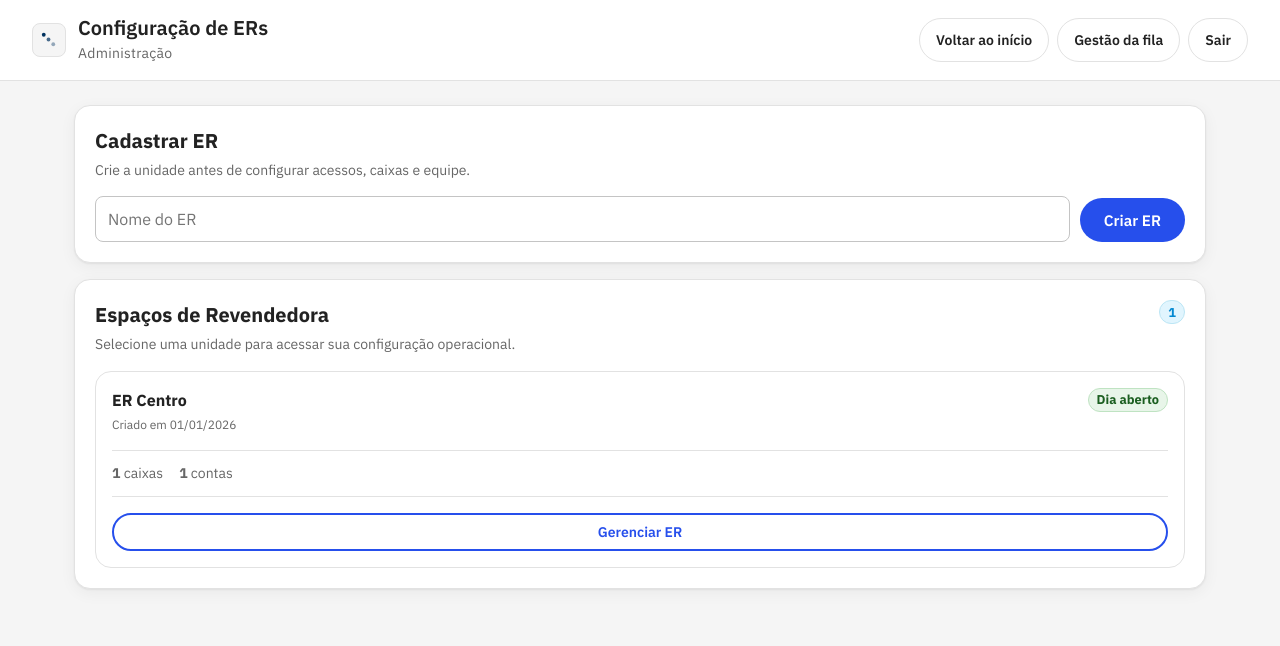
Test: AdminPage — ER management › hides the panel token URL after the ER detail reloads, never reshowing the secret
Click the button "Gerenciar ER" at coordinates (640, 532), box [112, 513, 1168, 551]
(page scrolled)
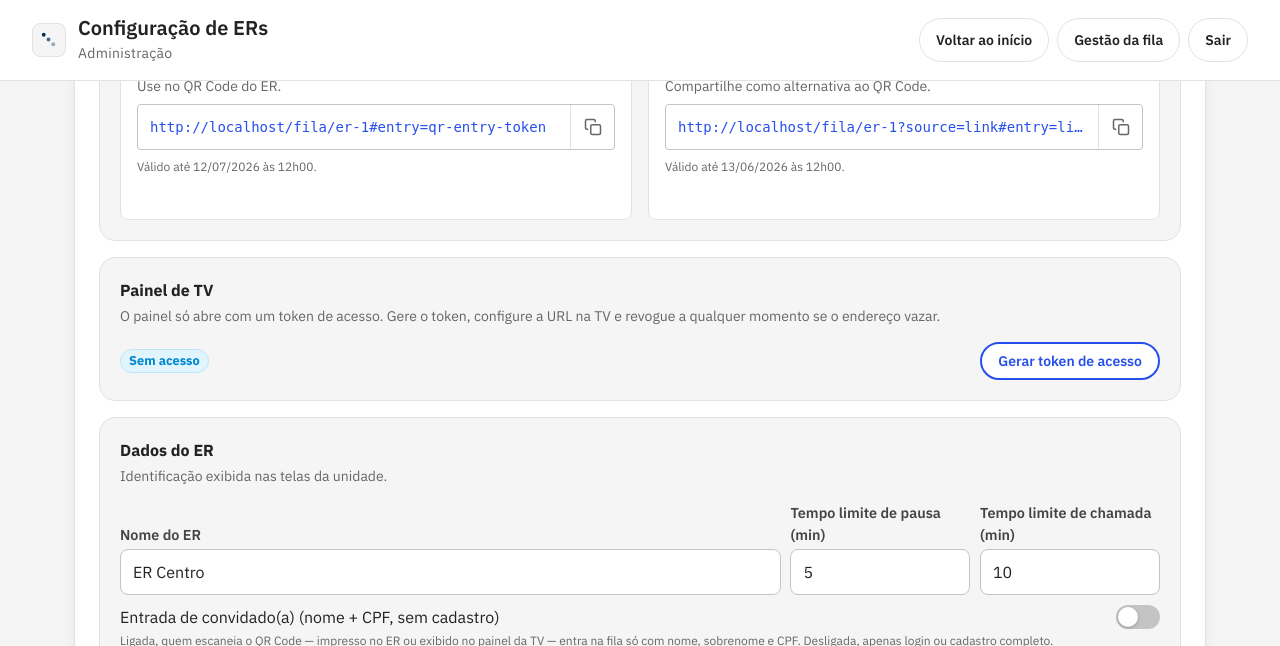
Click the button "Gerar token de acesso" at coordinates (1070, 361), box [980, 342, 1160, 380]
(page scrolled)
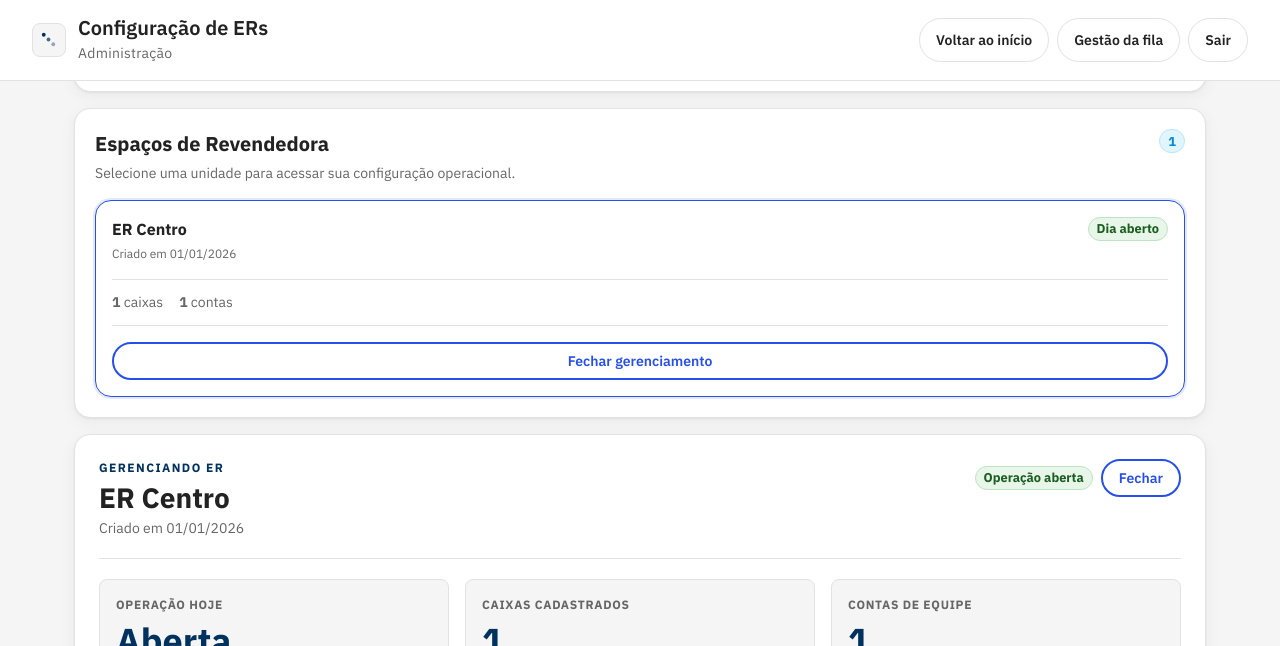
Click the button "Fechar gerenciamento" at coordinates (640, 361), box [112, 342, 1168, 380]
(page scrolled)
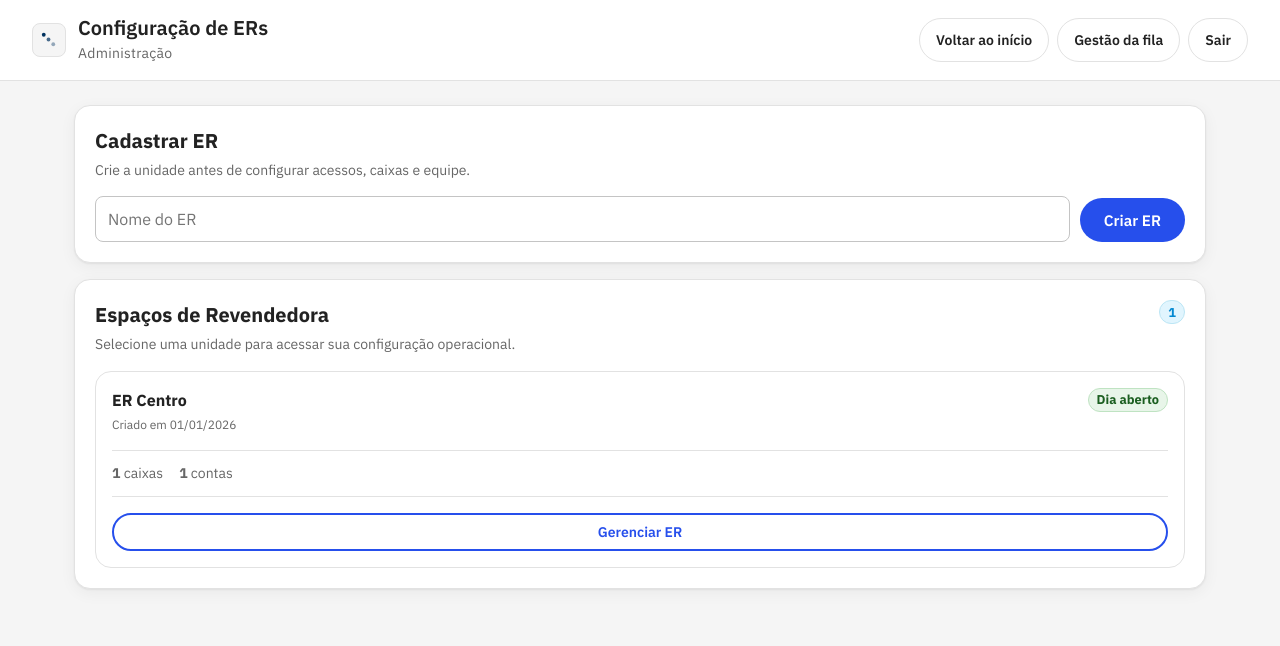
Click the button "Gerenciar ER" at coordinates (640, 532), box [112, 513, 1168, 551]
(page scrolled)
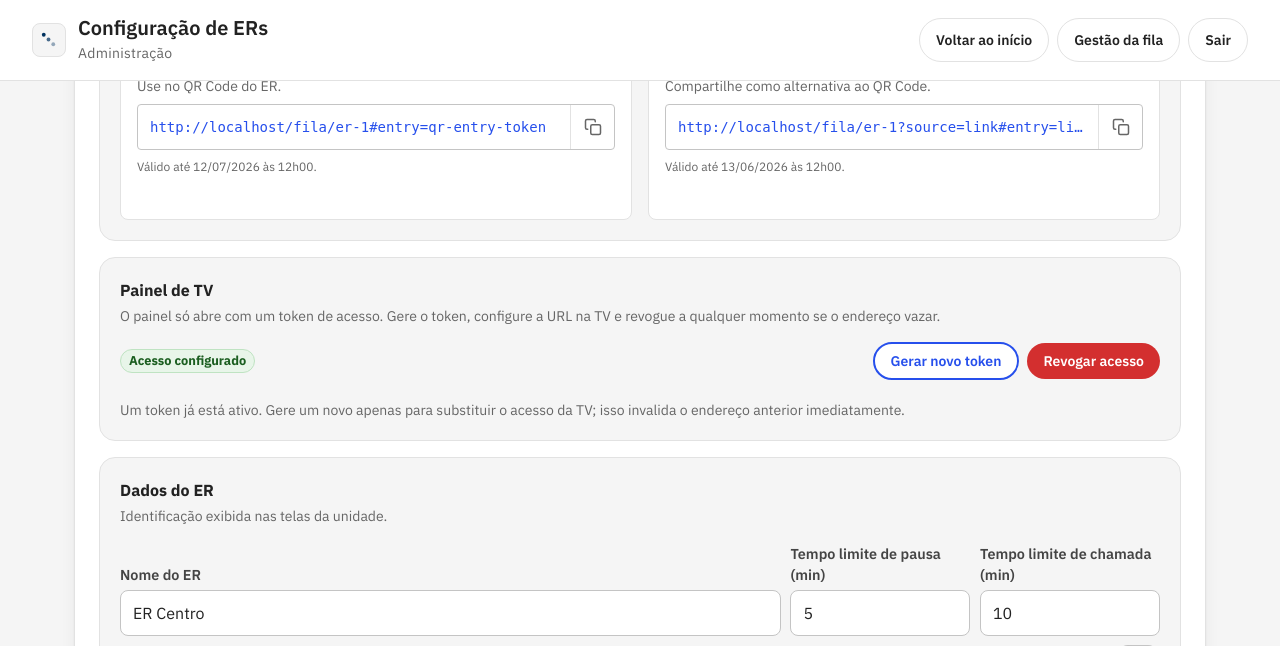
Now the text "Acesso configurado" is shown, box [120, 349, 255, 373]
